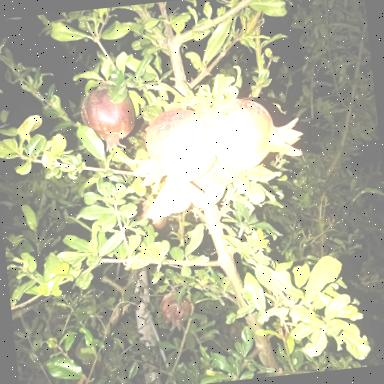abw: (144, 174, 214, 220)
